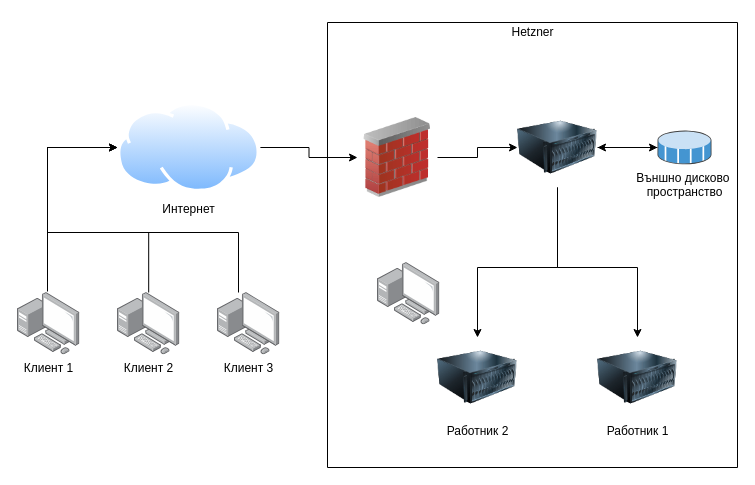
This 755x485 diagram has some shape labels left out. The shapes that lost their labels are listed below. From the top down, each one's centre as x and y in pixels, then its label:
At pixel 397 157: "Защитна стена".
At pixel 557 147: "Мениджър".
